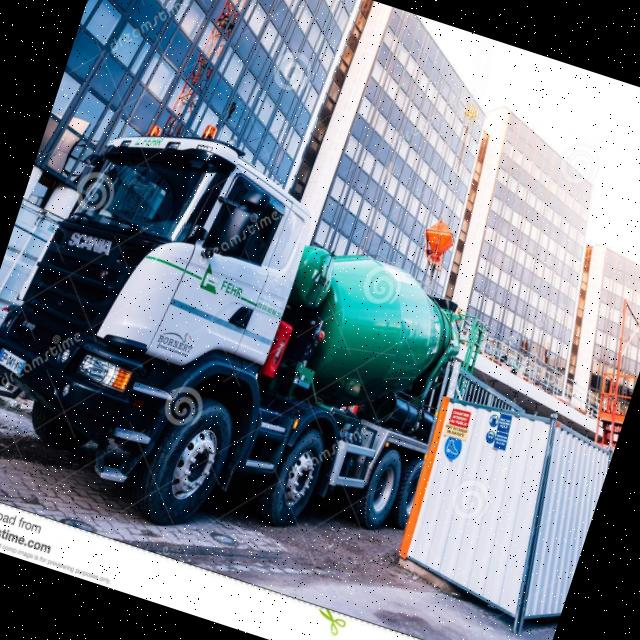Mixer Truck: (0, 89, 518, 597)
